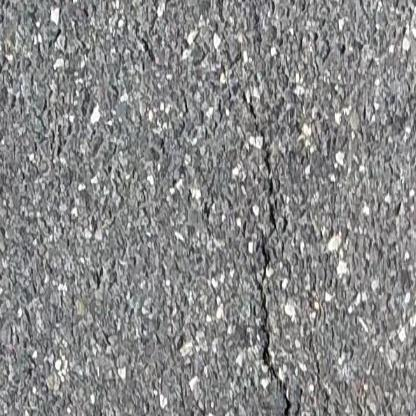Cracks: (258, 241, 297, 416), (239, 91, 281, 235)
